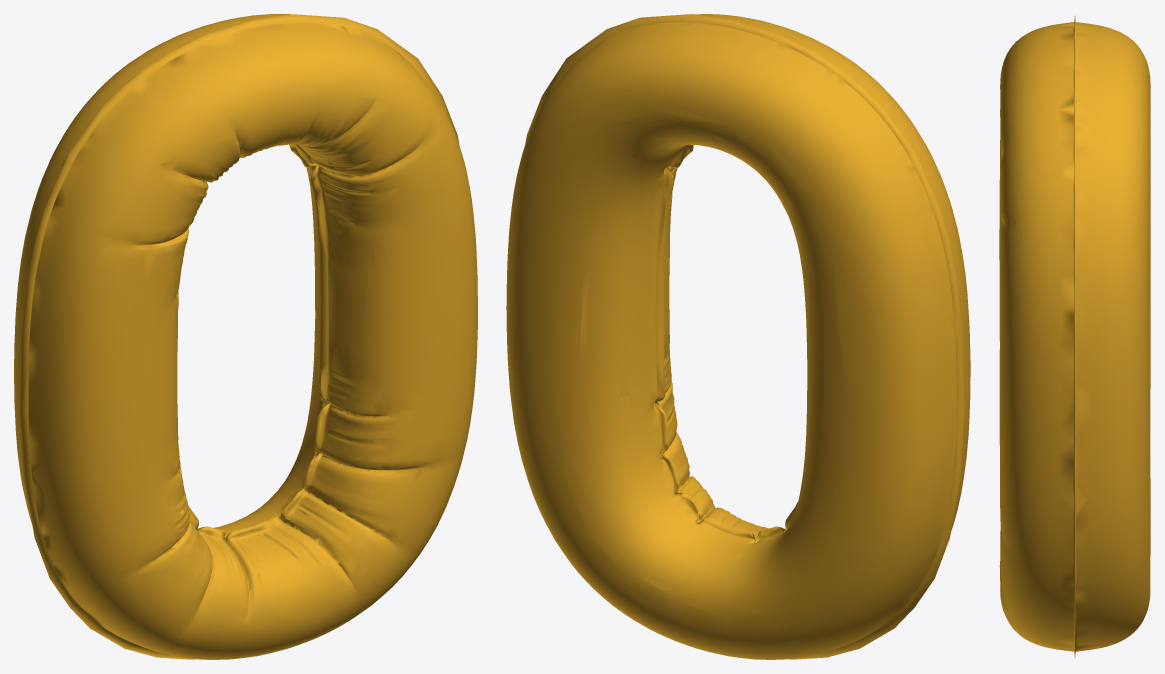
Rendered from zahlen-gold-nr0-gruppe.glb.
The picture shows the model from 3 angles, left to right: view 1: azimuth 30°, elevation 25°; view 2: azimuth 150°, elevation 25°; view 3: azimuth 270°, elevation 25°; orthographic projection. The views are drawn at different scales.
Visible parts, largest first — view 1: nr0; view 2: nr0; view 3: nr0.
Boxes of the visible parts, bbox=[...] form: nr0: bbox=[14, 14, 477, 659]; nr0: bbox=[506, 14, 970, 659]; nr0: bbox=[999, 16, 1150, 657].
Bounding box in the file's own units: 0.4599 × 0.6139 × 0.1415.
